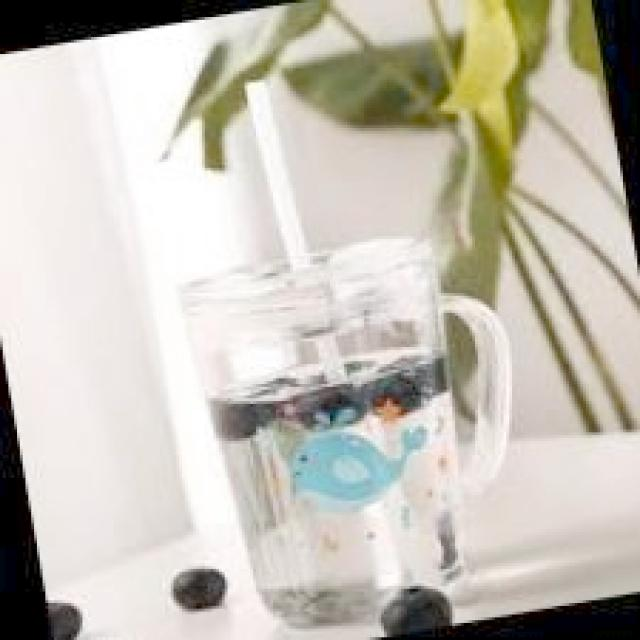bottle: (134, 46, 543, 632)
